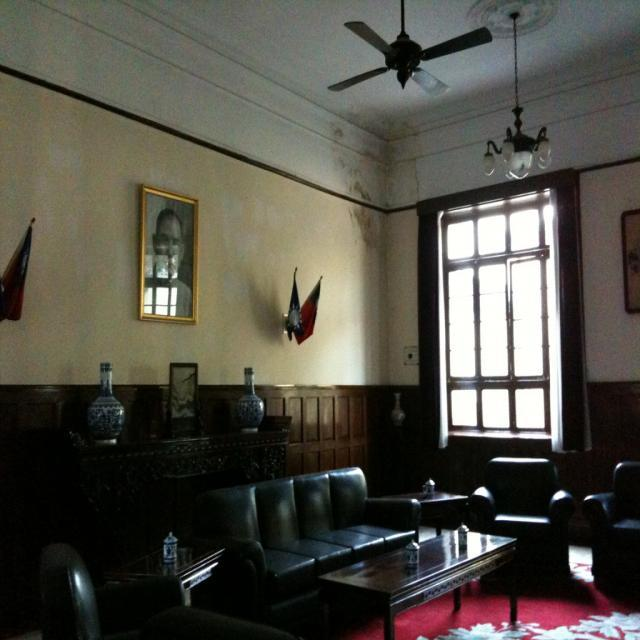bulb_off: (534, 143, 552, 162), (536, 150, 554, 168), (483, 156, 497, 176)
fan_off: (327, 0, 492, 102)
